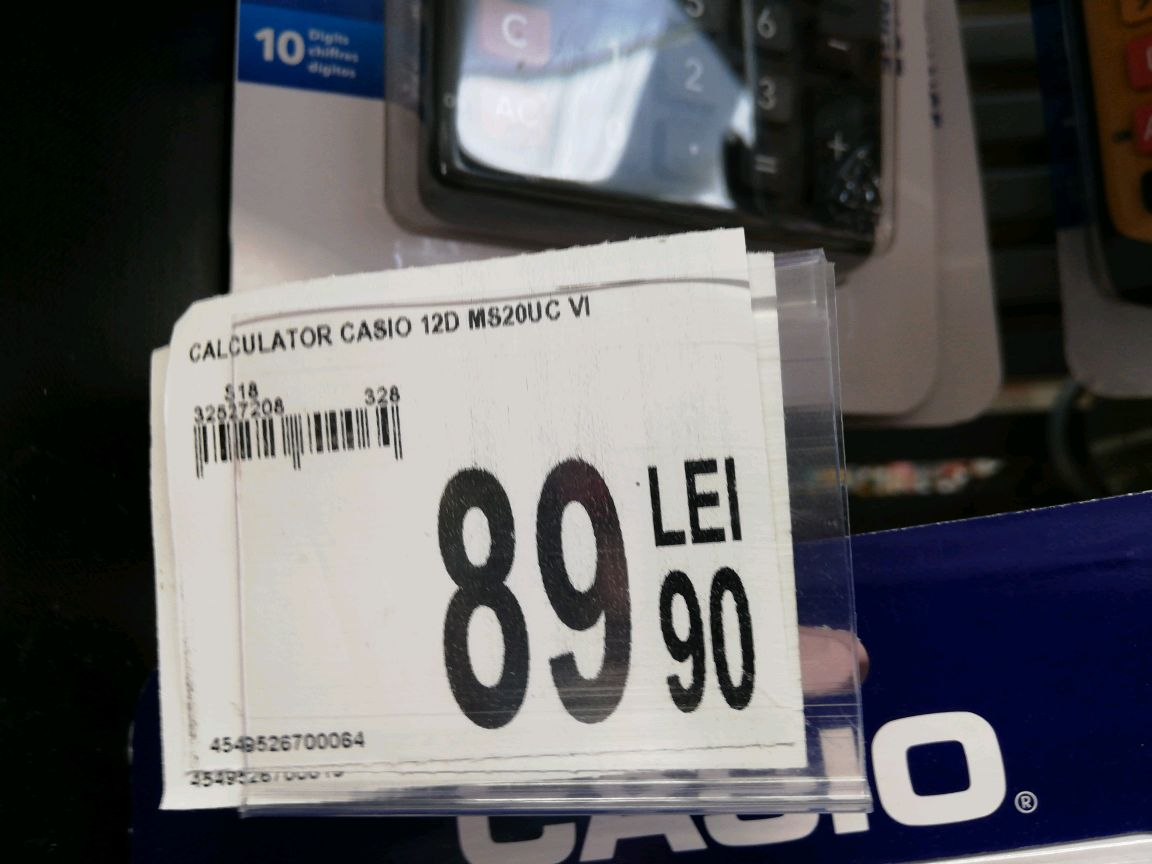price_bani: (645, 560, 768, 733)
price_lei: (426, 447, 638, 734)
price_tag: (153, 219, 803, 816)
product_id: (201, 724, 370, 756)
product_name: (182, 286, 603, 371)
